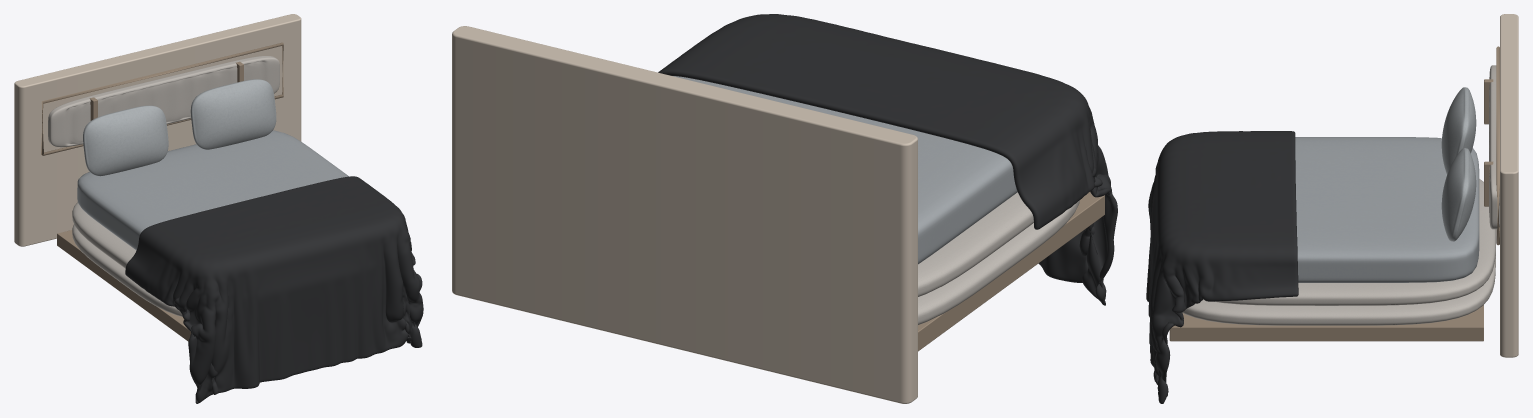
The model's file is neva-bed-set-with-wardrobe--bed.glb.
The picture shows the model from 3 angles, left to right: view 1: azimuth 30°, elevation 25°; view 2: azimuth 150°, elevation 25°; view 3: azimuth 270°, elevation 25°; orthographic projection. The views are drawn at different scales.
Parts seen in each view (by area): view 1: duvet, headback, mattress, headpad, pillow1, pillow0, plinth, layer1, layer0, headtrim; view 2: headback, duvet, mattress, layer1, layer0, plinth; view 3: duvet, mattress, headback, layer0, plinth, layer1, pillow1, pillow0, headpad, headtrim.
Part boxes in pixels (x1,y1,x2,y2): duvet: (125, 176, 423, 403); headback: (14, 14, 301, 246); mattress: (77, 130, 348, 250); headpad: (48, 56, 279, 147); pillow1: (190, 79, 276, 149); pillow0: (83, 105, 168, 176); plinth: (57, 230, 191, 341); layer1: (72, 202, 136, 268); layer0: (72, 224, 182, 316); headtrim: (41, 42, 283, 155); headback: (452, 26, 917, 403); duvet: (658, 14, 1117, 305); mattress: (673, 76, 1017, 264); layer1: (918, 192, 1033, 296); layer0: (918, 200, 1079, 324); plinth: (918, 192, 1104, 351); duvet: (1146, 131, 1298, 403); mattress: (1295, 137, 1479, 282); headback: (1500, 14, 1518, 357); layer0: (1182, 248, 1495, 325); plinth: (1169, 305, 1483, 341); layer1: (1203, 179, 1495, 305); pillow1: (1441, 148, 1476, 241); pillow0: (1441, 87, 1476, 174); headpad: (1489, 65, 1499, 229); headtrim: (1496, 46, 1499, 245).
Size of the model in its own units: 2.4 by 1.77 by 2.37.
6 materials, 4 textured.
